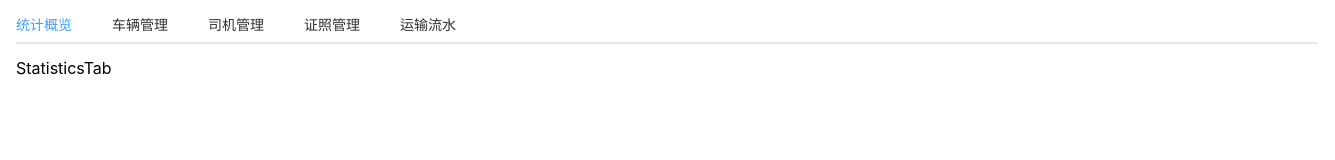
Test case: FleetPage › switches to transport tab when activeTab changes
Click the tab "运输流水" at (428, 24), box x1=400 y1=16 x2=456 y2=33
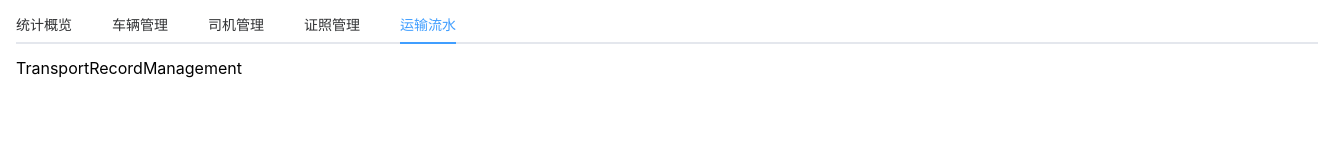
Expected: the text "TransportRecordManagement" is shown, x1=16 y1=58 x2=242 y2=78
